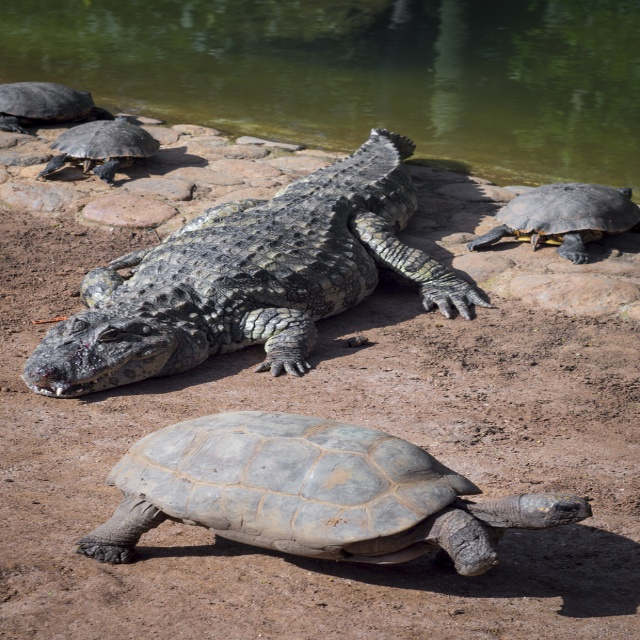Crocodile: (11, 123, 500, 399)
